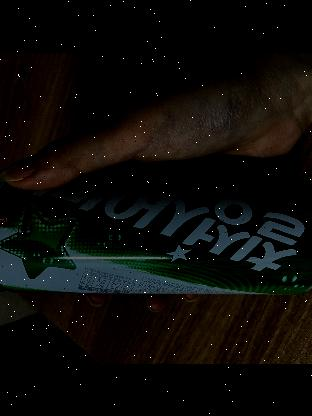Can: (0, 166, 312, 293)
